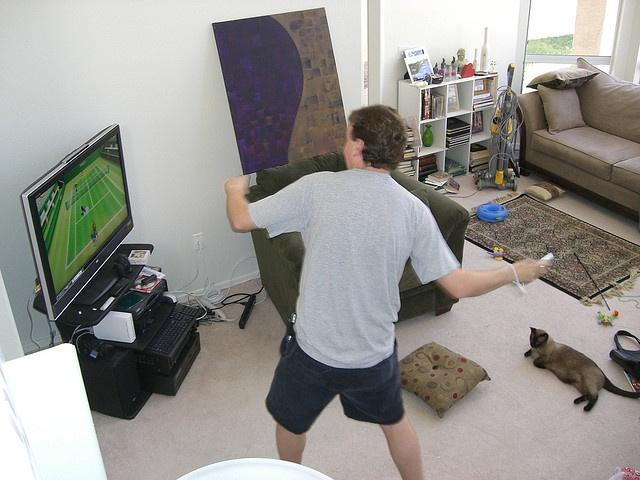AIO PC-Monitor-TV: (19, 122, 135, 322)
Rak: (414, 69, 499, 183)
